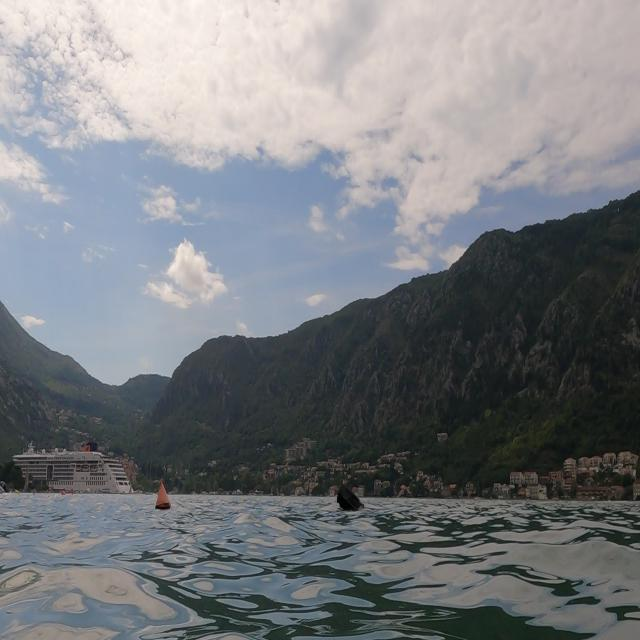boat: (11, 434, 138, 508)
buoy: (328, 480, 376, 536), (151, 474, 180, 526)
